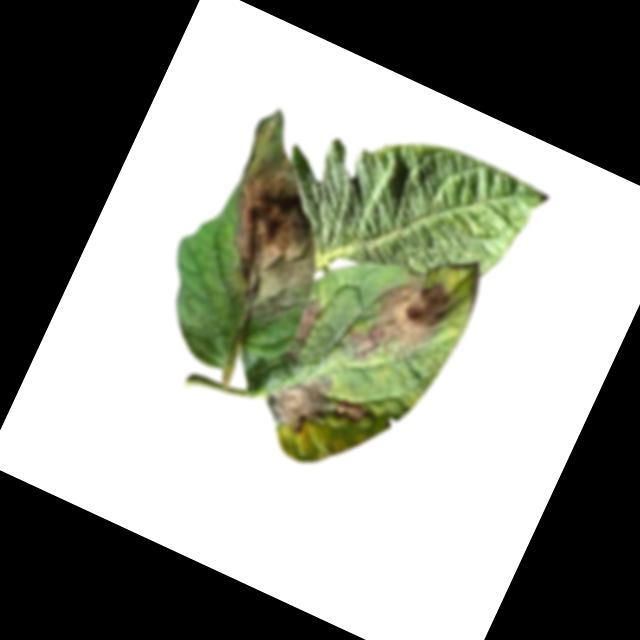Late_blight: (174, 110, 368, 346), (337, 253, 460, 390), (255, 354, 383, 464), (289, 292, 326, 348)
